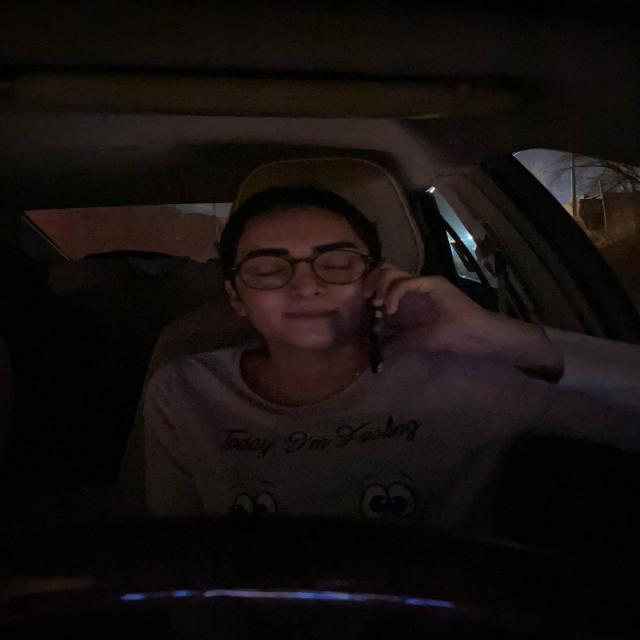drowsy: (219, 181, 407, 372)
